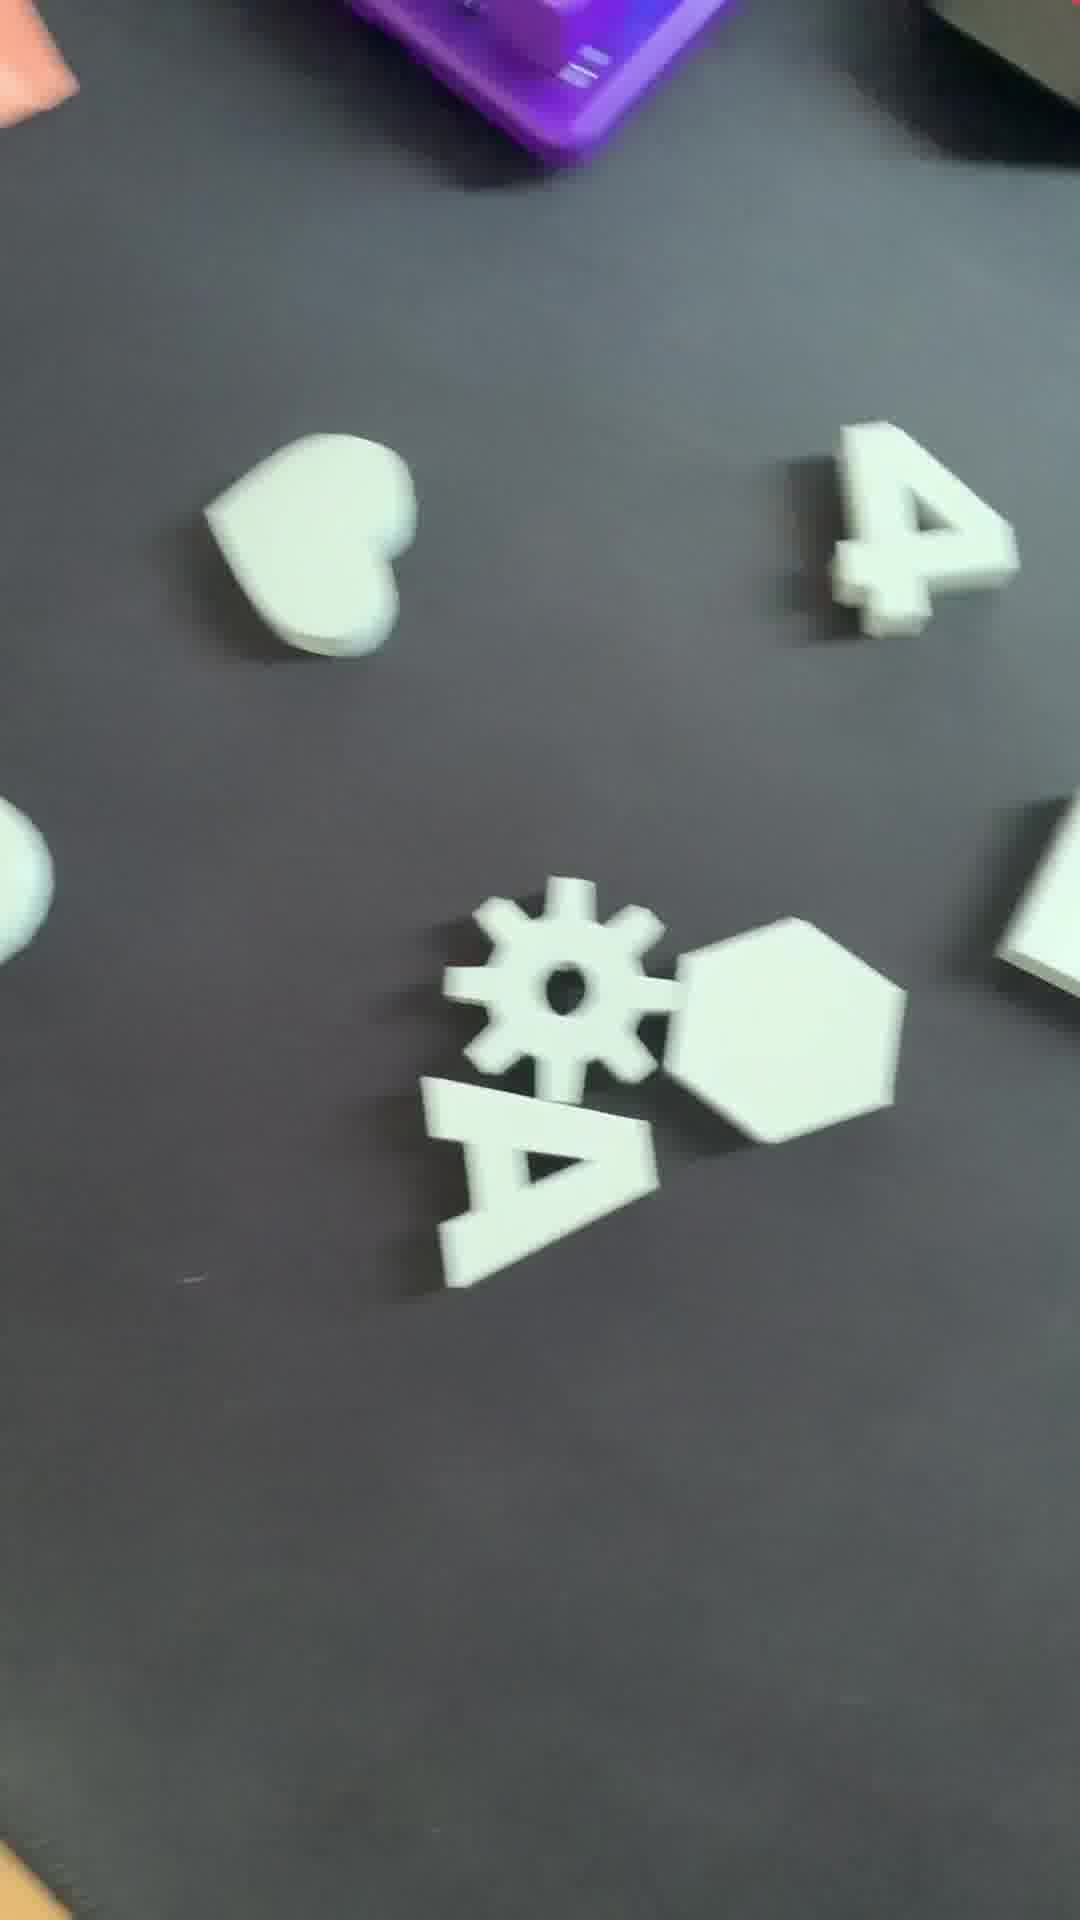Gray A-letter: (404, 1065, 662, 1300)
Gray four: (808, 407, 1033, 650)
Gray gear: (451, 876, 692, 1102)
Gray heart: (194, 429, 433, 679)
Gray hexagon: (670, 920, 905, 1155)
